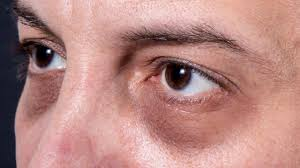PUFFY_EYES: (126, 36, 258, 155)
